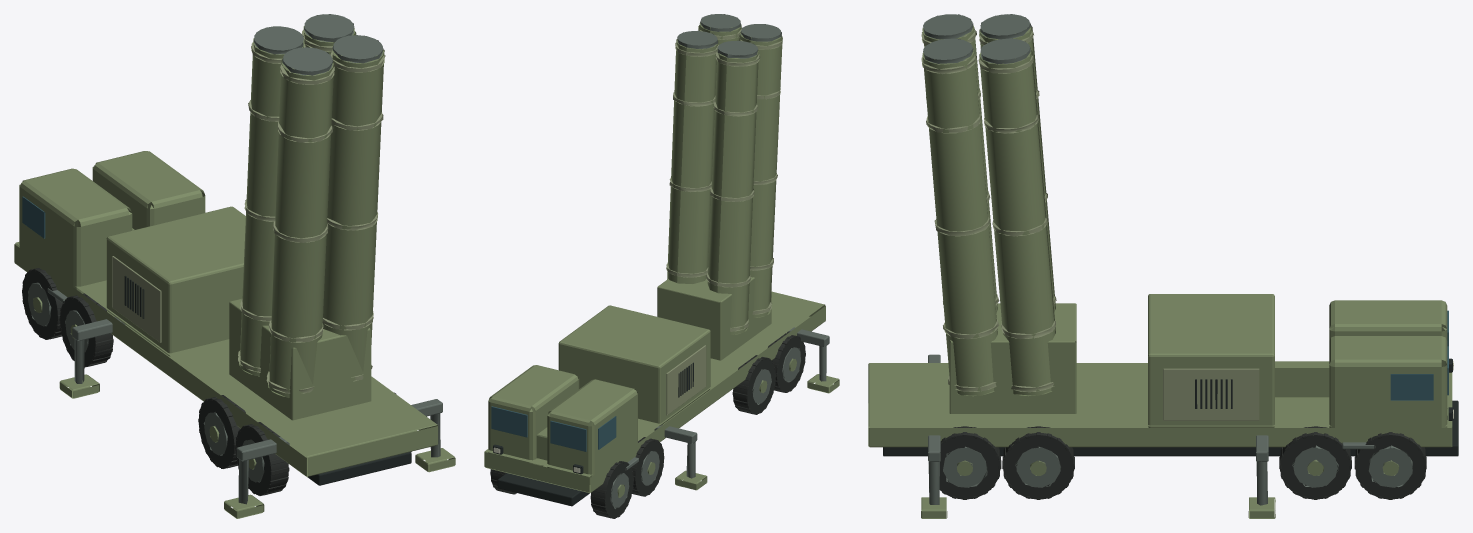
3 views of the same model, side by side, from view 1: azimuth 30°, elevation 25°; view 2: azimuth 150°, elevation 25°; view 3: azimuth 270°, elevation 25° (orthographic). The views are drawn at different scales.
Visible parts, largest first — view 1: static.olive painted metal, static.dark exterior metal, static.edge and panel paint, static.rubber and track pads, static.recess shadow, static.smoked glazing; view 2: static.olive painted metal, static.dark exterior metal, static.rubber and track pads, static.edge and panel paint, static.smoked glazing, static.recess shadow; view 3: static.olive painted metal, static.dark exterior metal, static.rubber and track pads, static.edge and panel paint, static.recess shadow, static.smoked glazing.
Part boxes in pixels (x1,y1,x2,y2): static.olive painted metal: [14, 26, 455, 518]; static.dark exterior metal: [28, 14, 442, 504]; static.edge and panel paint: [112, 30, 385, 393]; static.rubber and track pads: [22, 268, 411, 495]; static.recess shadow: [124, 275, 411, 485]; static.smoked glazing: [22, 196, 45, 238]; static.olive painted metal: [484, 22, 839, 497]; static.dark exterior metal: [610, 14, 829, 508]; static.rubber and track pads: [490, 333, 805, 518]; static.edge and panel paint: [666, 26, 782, 415]; static.smoked glazing: [491, 406, 616, 451]; static.recess shadow: [493, 362, 693, 506]; static.olive painted metal: [868, 25, 1452, 518]; static.dark exterior metal: [923, 14, 1412, 505]; static.rubber and track pads: [939, 426, 1426, 499]; static.edge and panel paint: [921, 29, 1259, 420]; static.recess shadow: [883, 358, 1458, 456]; static.smoked glazing: [1390, 310, 1448, 400].
Bounding box in the file's own units: 5.35 × 10.07 × 12.5.
